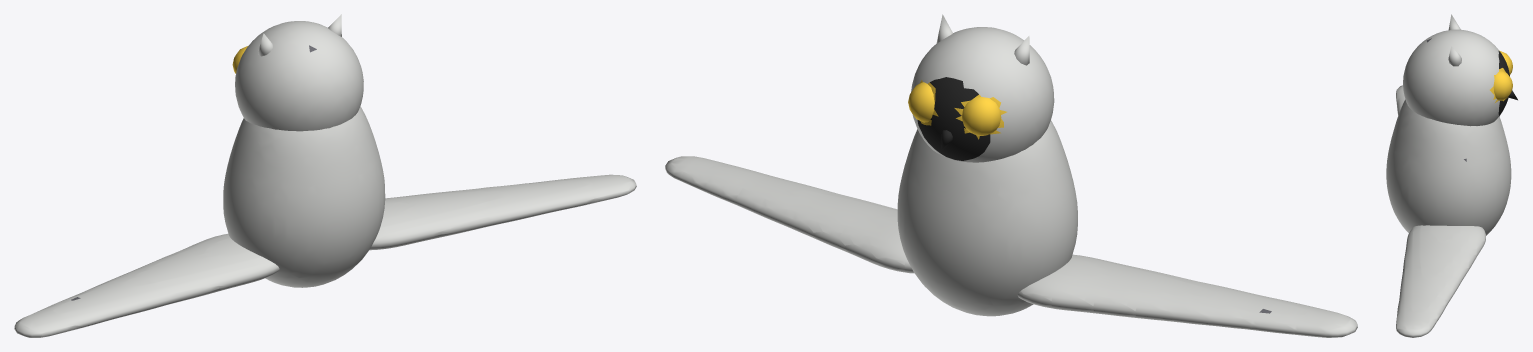
Rendered from animal_owl.glb.
3 renders of one model, left to right at view 1: azimuth 30°, elevation 25°; view 2: azimuth 150°, elevation 25°; view 3: azimuth 270°, elevation 25°, orthographic. The views are drawn at different scales.
Parts seen in each view (by area): view 1: Body, Head, WingL, WingR; view 2: Body, Head, WingL, WingR; view 3: Body, Head, WingR, WingL.
Boxes of the visible parts, bbox=[...] form: Body: bbox=[223, 106, 385, 287]; Head: bbox=[232, 14, 363, 131]; WingL: bbox=[14, 234, 279, 337]; WingR: bbox=[369, 174, 636, 250]; Body: bbox=[897, 120, 1077, 316]; Head: bbox=[908, 14, 1054, 162]; WingL: bbox=[1017, 254, 1357, 337]; WingR: bbox=[665, 156, 913, 273]; Body: bbox=[1386, 99, 1511, 235]; Head: bbox=[1403, 14, 1517, 126]; WingR: bbox=[1396, 225, 1485, 337]; WingL: bbox=[1396, 85, 1405, 115].
Bounding box in the file's own units: 1.5 × 0.5943 × 0.332.
